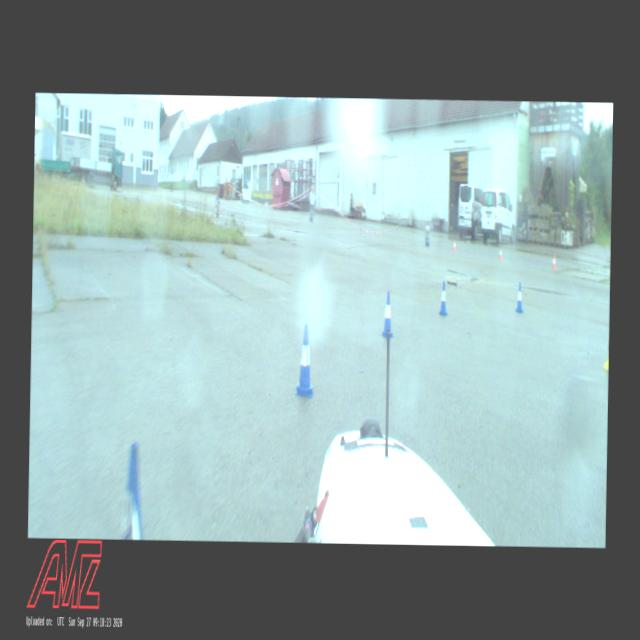blue_cone: (126, 443, 142, 540), (295, 324, 315, 396), (380, 291, 394, 336), (438, 280, 448, 315), (515, 282, 523, 312)
orange_cone: (498, 247, 502, 259), (552, 256, 556, 268), (453, 240, 456, 252)
yellow_cone: (602, 338, 608, 371)
